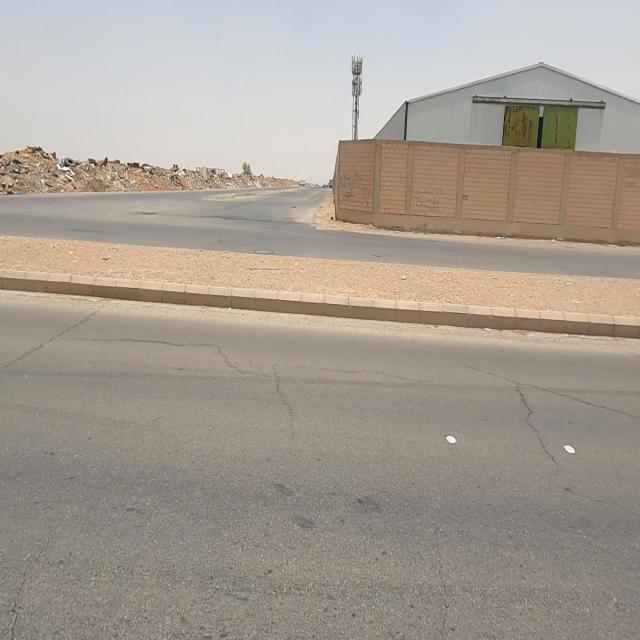Graffiti: (338, 170, 373, 207), (412, 188, 447, 213)
